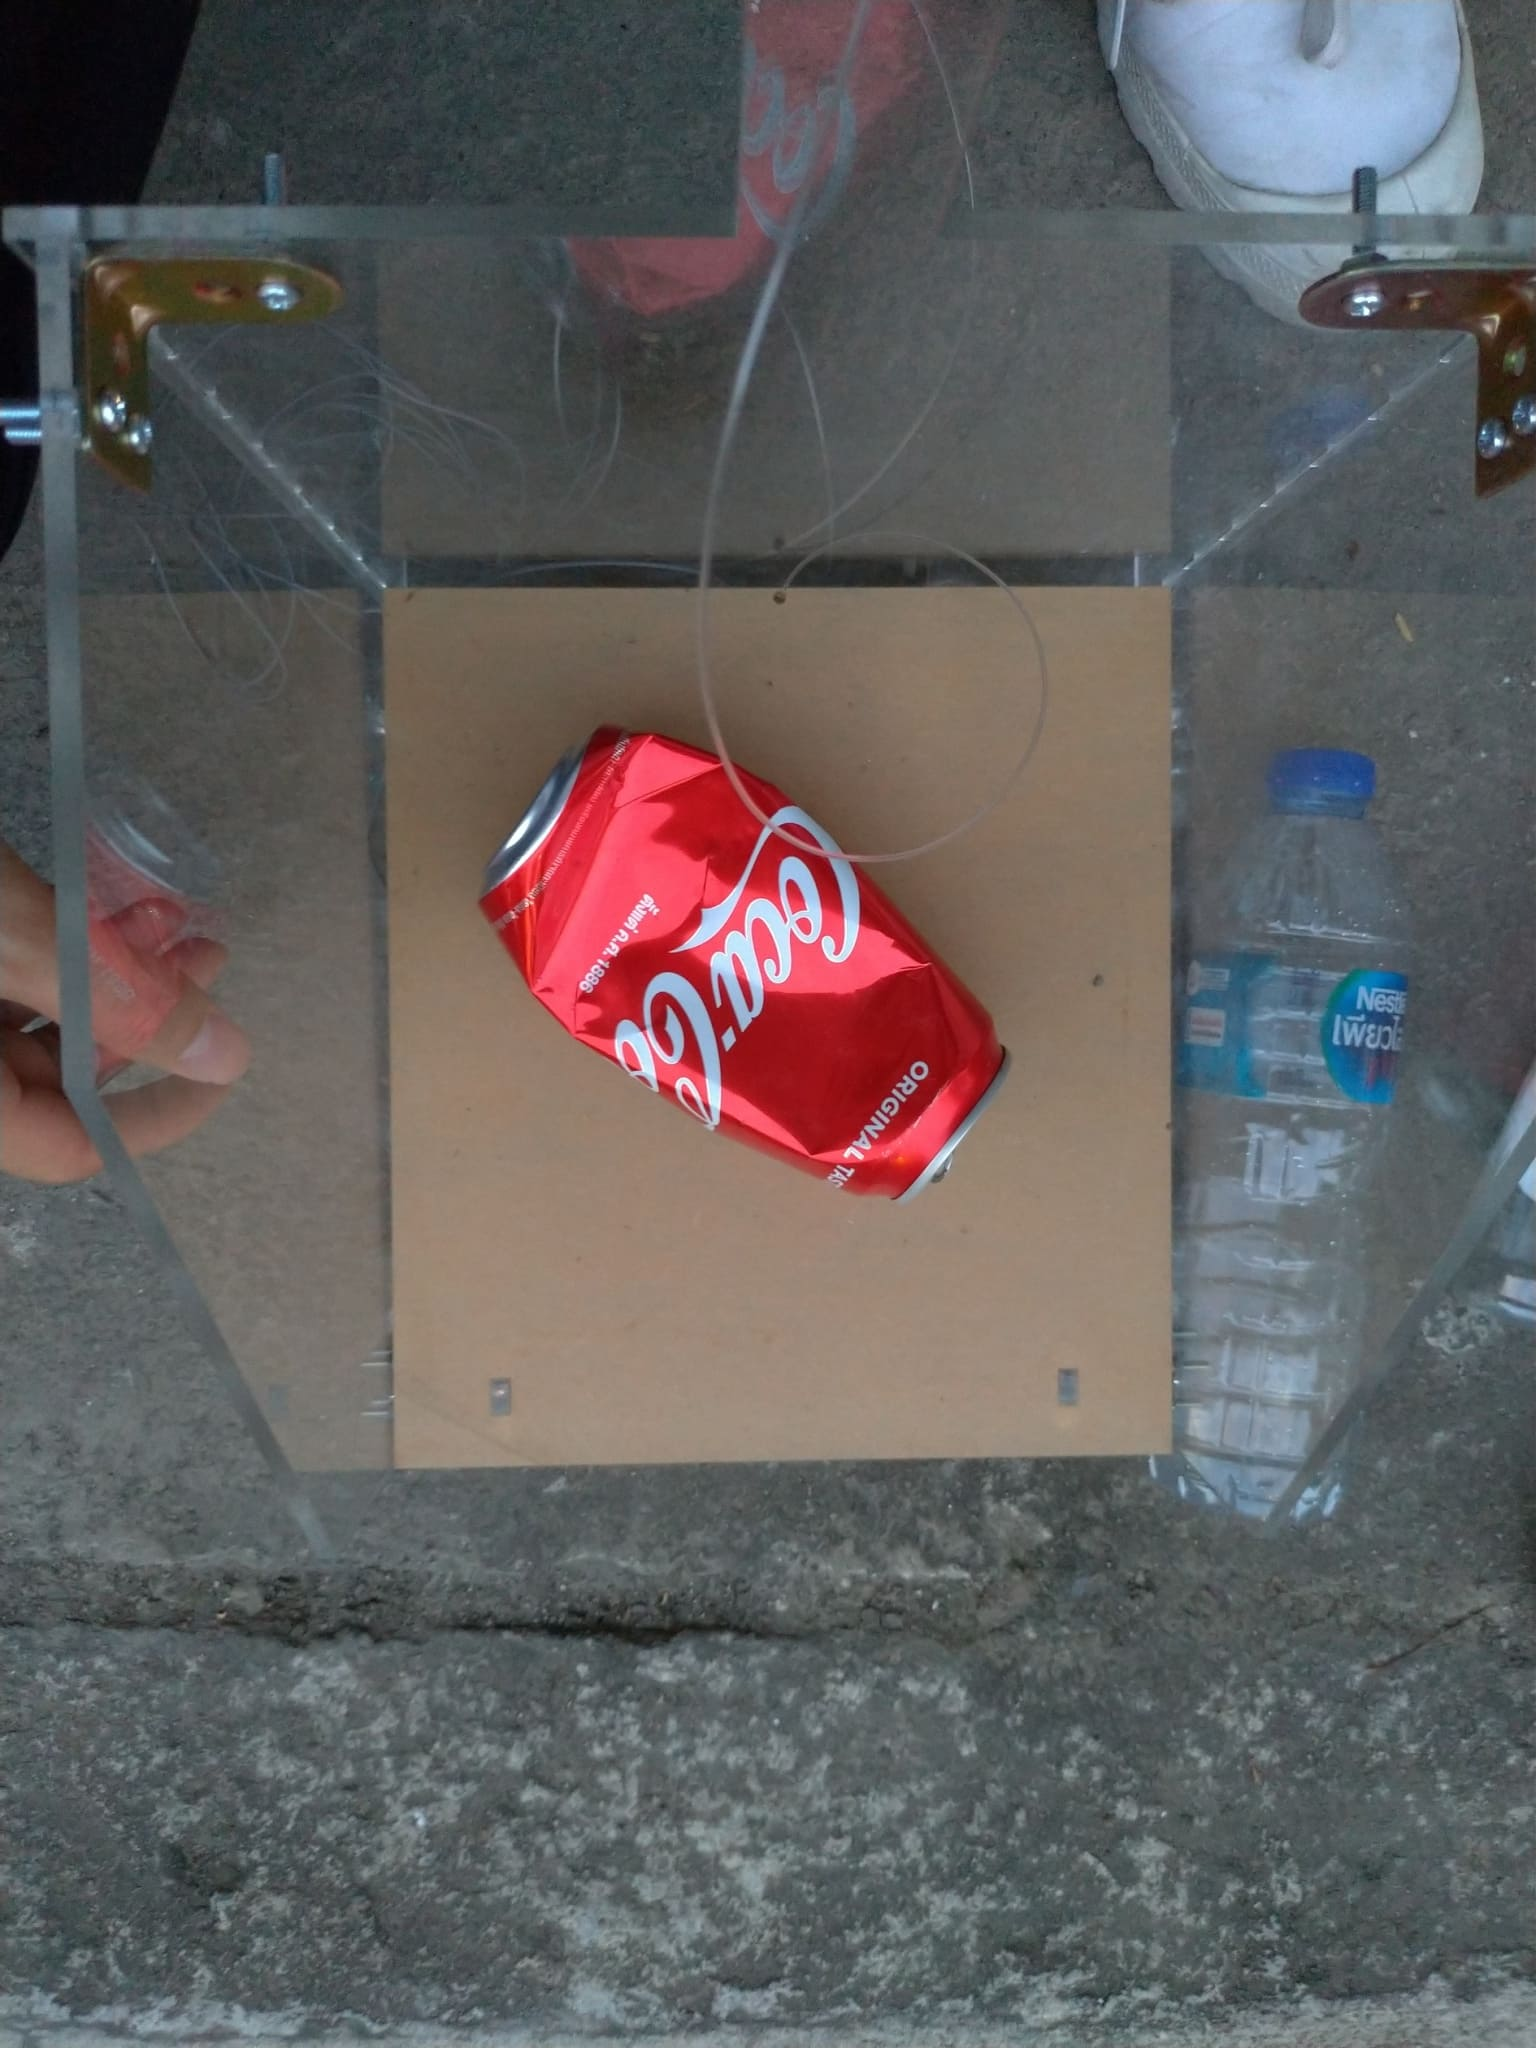AlCan: (466, 729, 1012, 1197)
PlasticBottle: (1149, 745, 1412, 1519)
